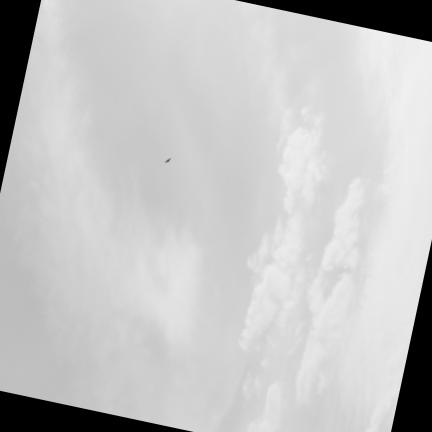Shahed: (165, 156, 172, 162)
